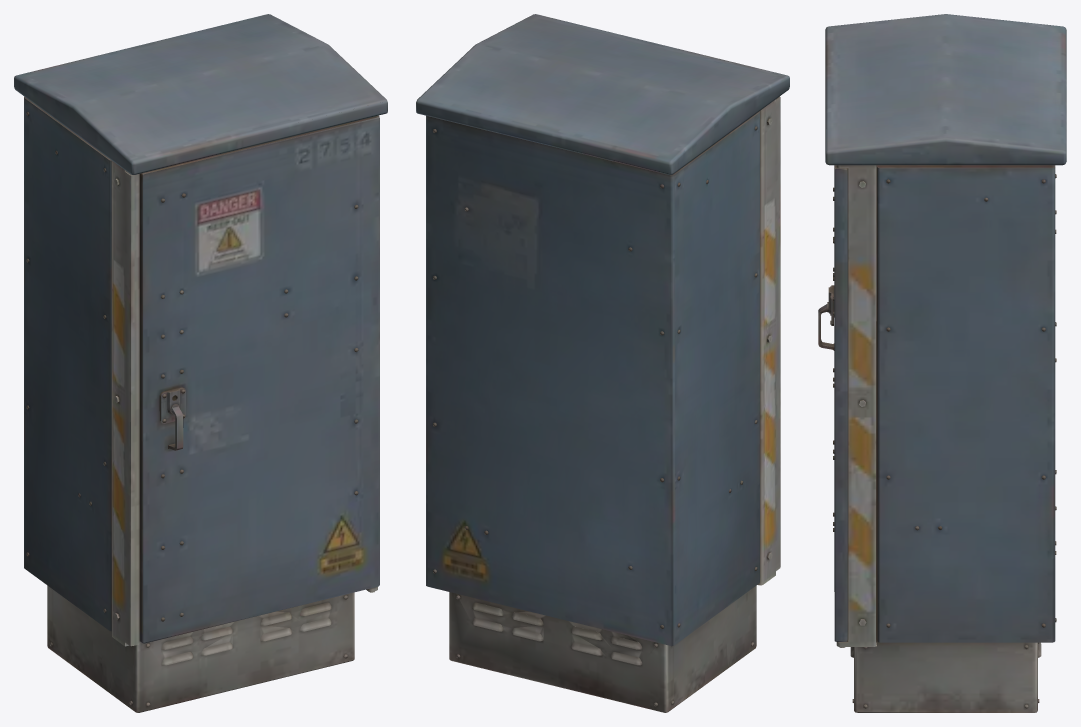
Rendered from utility_box.glb.
3 views of the same model, side by side, from view 1: azimuth 30°, elevation 25°; view 2: azimuth 150°, elevation 25°; view 3: azimuth 270°, elevation 25° (orthographic).
Visible parts, largest first — view 1: utility_box; view 2: utility_box; view 3: utility_box.
Boxes of the visible parts, box(x1,y1,x2,y2) form: utility_box: box(14, 14, 387, 712); utility_box: box(416, 14, 789, 712); utility_box: box(818, 14, 1066, 712).
Size of the model in its own units: 0.52 by 1.12 by 0.4319.
1 material, 1 textured.
